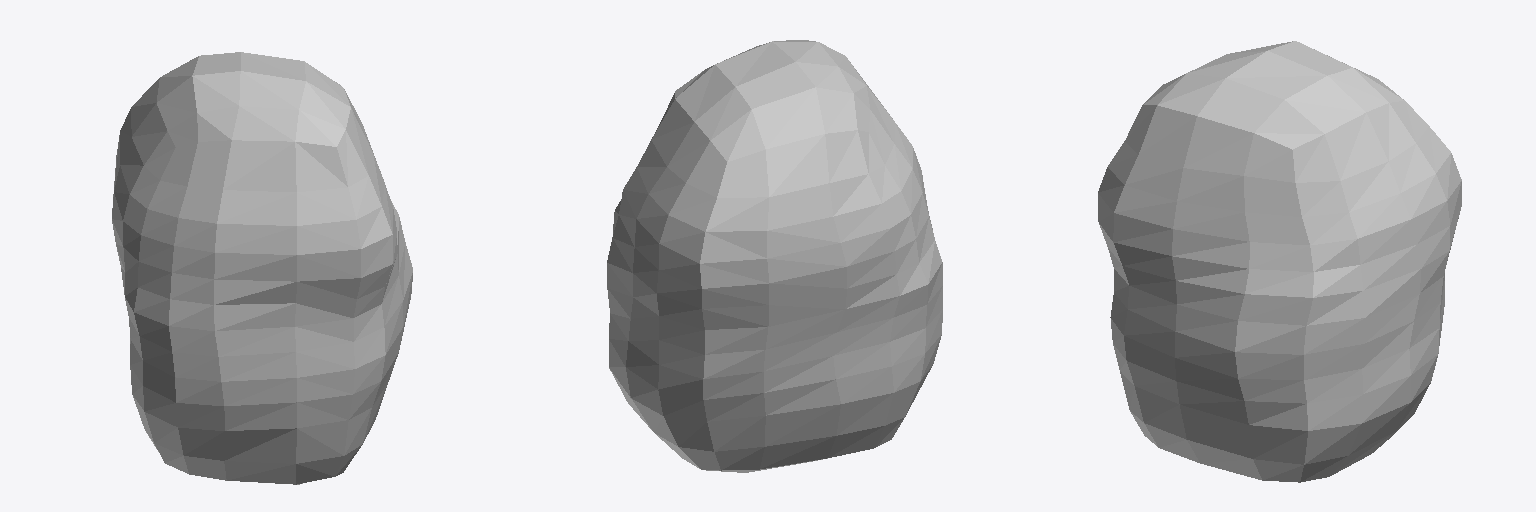
The model's file is PM3D_rock032_013.OBJ.
3 renders of one model, left to right at view 1: azimuth 30°, elevation 25°; view 2: azimuth 150°, elevation 25°; view 3: azimuth 270°, elevation 25°, orthographic.
Parts seen in each view (by area): view 1: Group40209; view 2: Group40209; view 3: Group40209.
Boxes of the visible parts, <box> form: Group40209: <box>112,52,412,484</box>; Group40209: <box>607,40,942,472</box>; Group40209: <box>1098,41,1461,482</box>.
Size of the model in its own units: 1235 by 1626 by 1378.